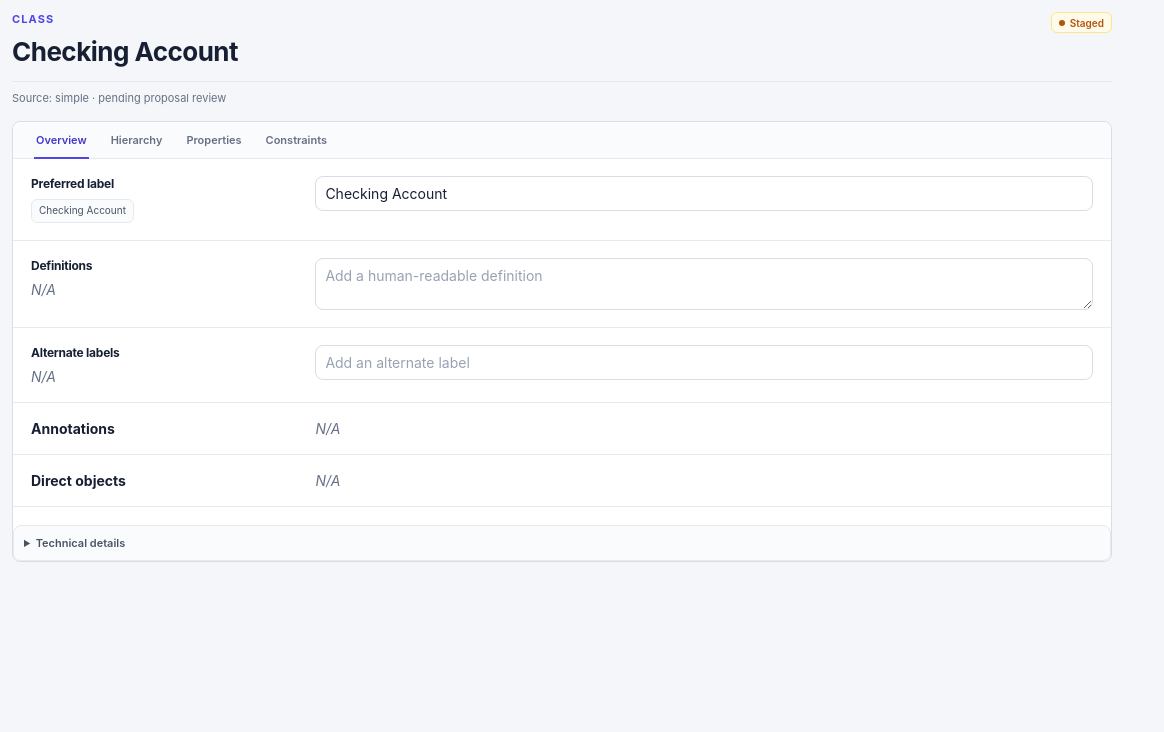
entity details editing › shows staged property domains in the class property workspace
Click the tab "Hierarchy" at (137, 140), box x1=100 y1=122 x2=173 y2=158
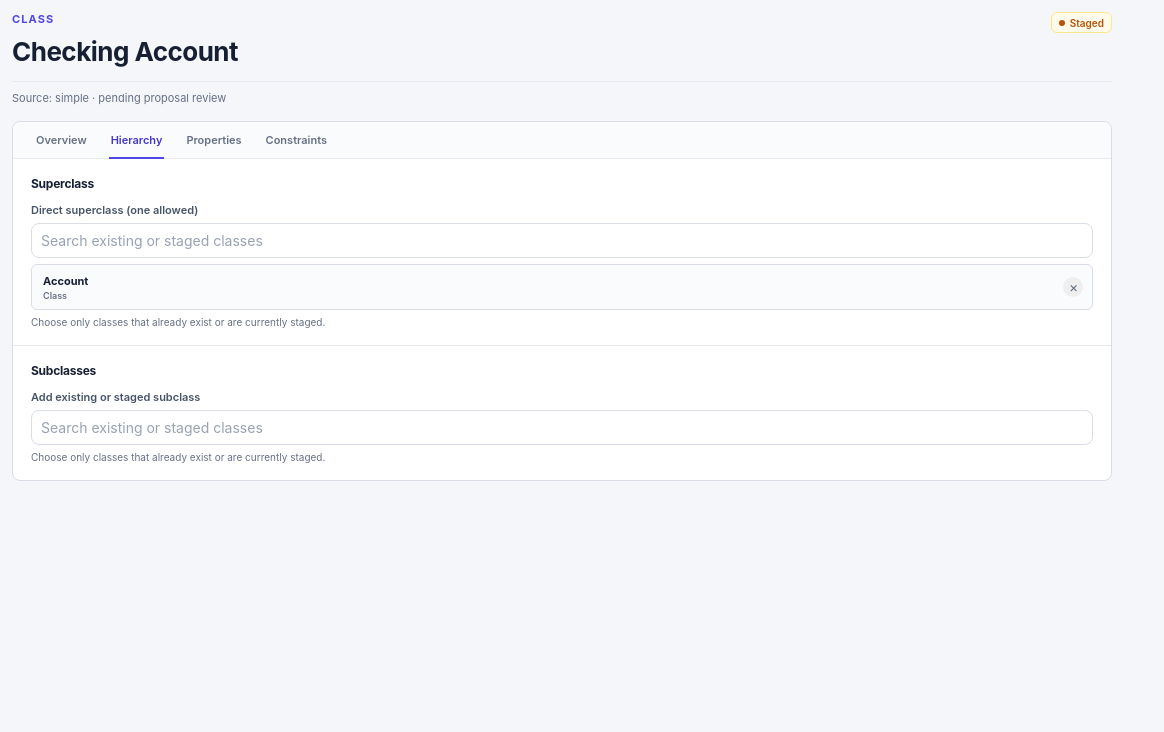
Expected: the text "Account" is shown, x1=43 y1=274 x2=88 y2=288
Result: the heading "Superclass" is shown at x1=31 y1=176 x2=94 y2=191
Result: the dropdown labelled "Direct superclass (one allowed)" is shown at x1=31 y1=223 x2=1093 y2=258
Click the tab "Properties" at (214, 140), box x1=175 y1=122 x2=253 y2=158
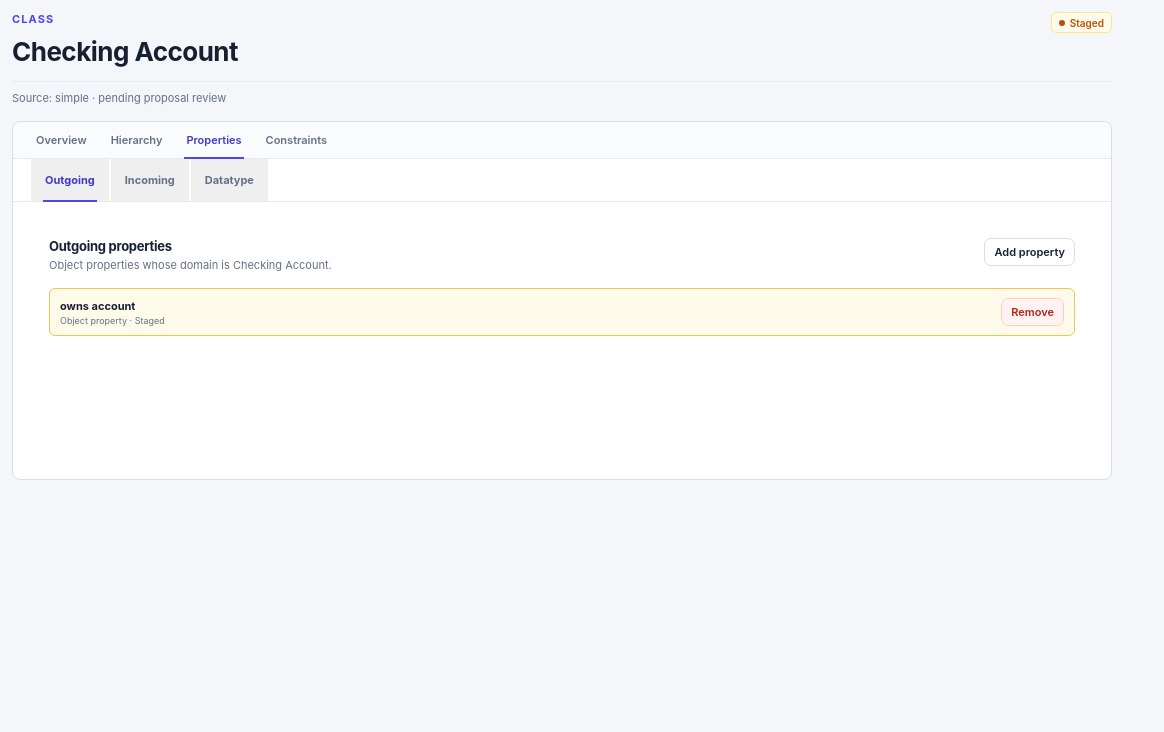
Result: the heading "Outgoing properties" is shown at x1=49 y1=238 x2=172 y2=254
Result: the text "owns account" is shown at x1=60 y1=299 x2=135 y2=313
Result: the text "Object property · Staged" is shown at x1=60 y1=315 x2=165 y2=326
